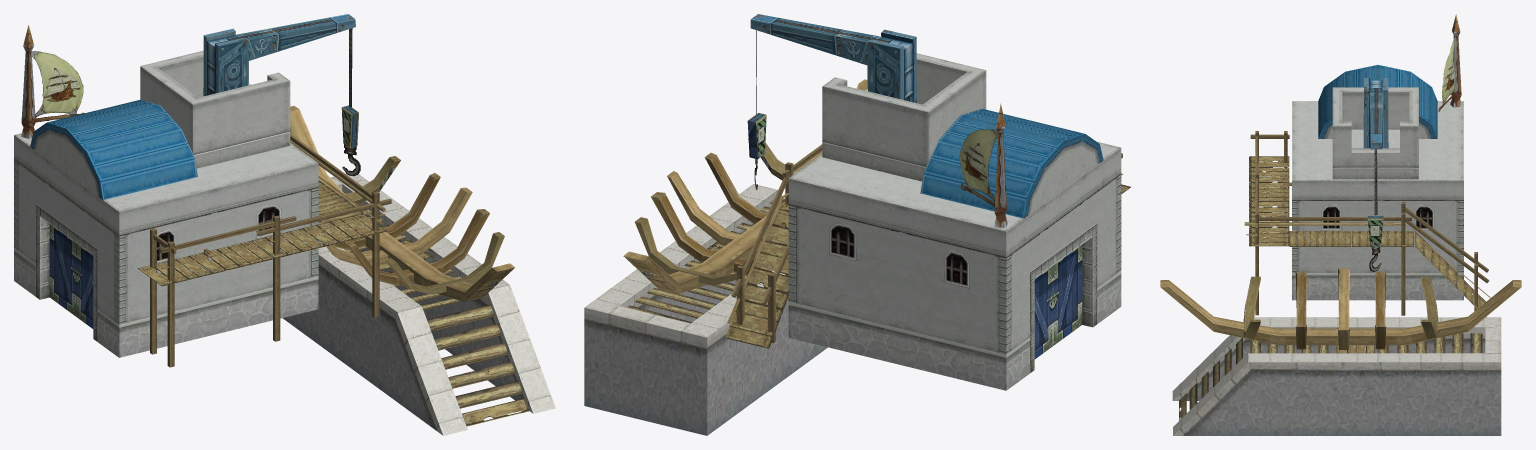
The picture shows the model from 3 angles, left to right: view 1: azimuth 30°, elevation 25°; view 2: azimuth 150°, elevation 25°; view 3: azimuth 270°, elevation 25°; orthographic projection. The views are drawn at different scales.
Parts seen in each view (by area): view 1: geom_node_0, geom_node_1, geom_node_2, geom_node_3; view 2: geom_node_0, geom_node_1, geom_node_2, geom_node_3; view 3: geom_node_1, geom_node_0, geom_node_3, geom_node_2.
Part boxes in pixels (<box>): geom_node_0: <box>14,25,391,367</box>; geom_node_1: <box>282,105,555,435</box>; geom_node_2: <box>203,14,360,176</box>; geom_node_3: <box>290,127,385,317</box>; geom_node_0: <box>788,53,1130,390</box>; geom_node_1: <box>584,79,867,435</box>; geom_node_2: <box>747,14,916,189</box>; geom_node_3: <box>725,144,822,348</box>; geom_node_1: <box>1160,268,1521,435</box>; geom_node_0: <box>1249,14,1463,300</box>; geom_node_3: <box>1244,202,1490,317</box>; geom_node_2: <box>1363,78,1388,271</box>.
Size of the model in its own units: 11.8 by 10.15 by 11.84.
11 materials, 11 textured.
